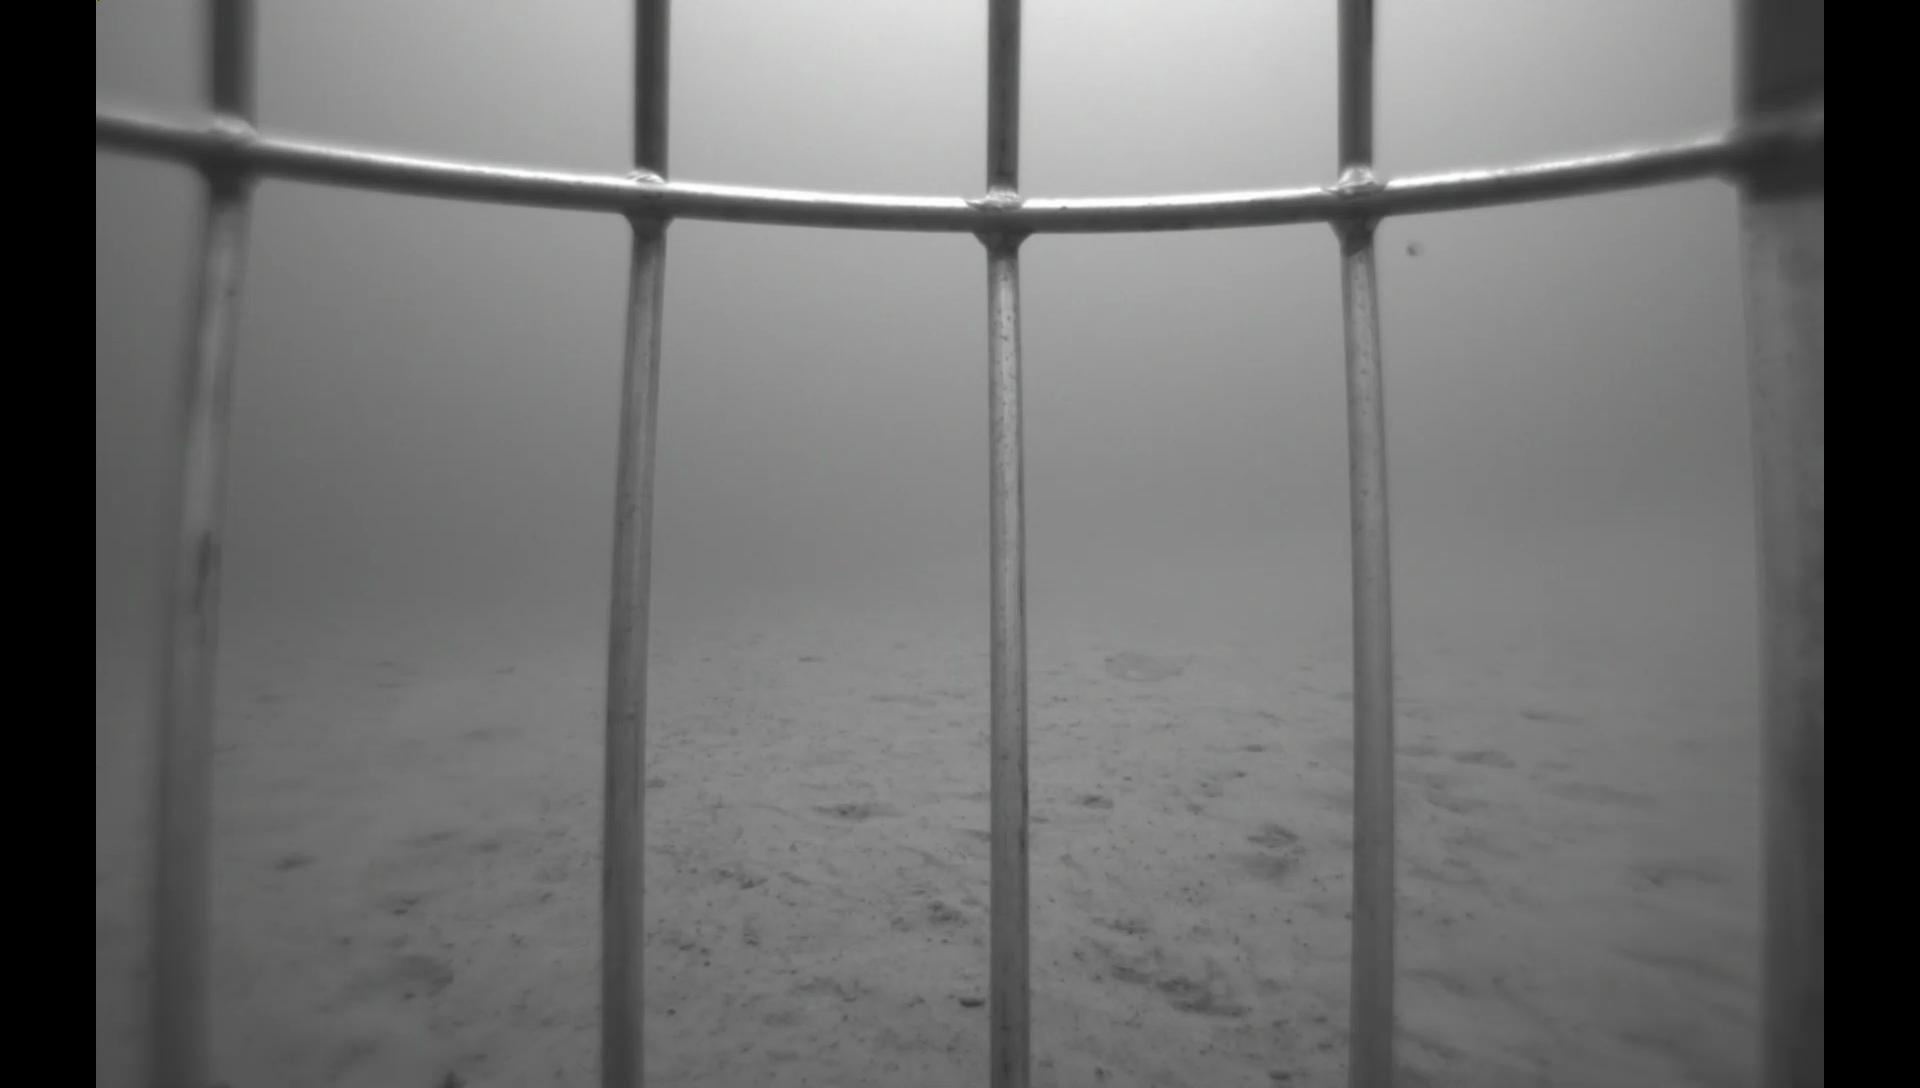PRISTIPOMOIDES-170151800: (1258, 710, 1415, 782), (1098, 645, 1209, 694)
